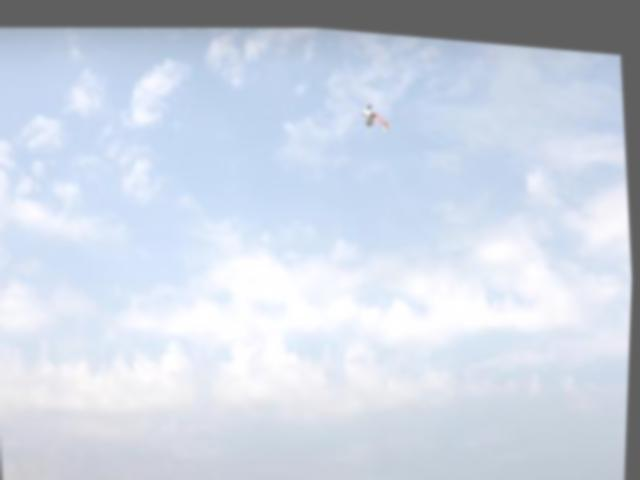uav: (357, 87, 399, 135)
